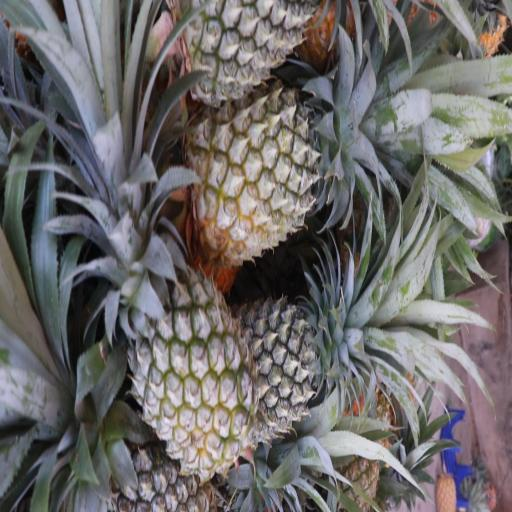------------------------------: (120, 262, 254, 464), (194, 93, 344, 254)
